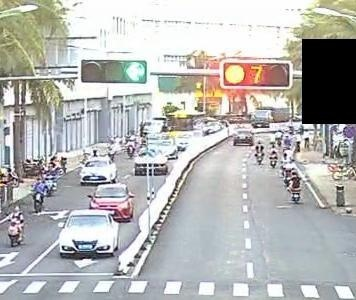greenleft: (123, 61, 146, 84)
red: (223, 62, 246, 85)
redtime: (248, 64, 269, 85)
